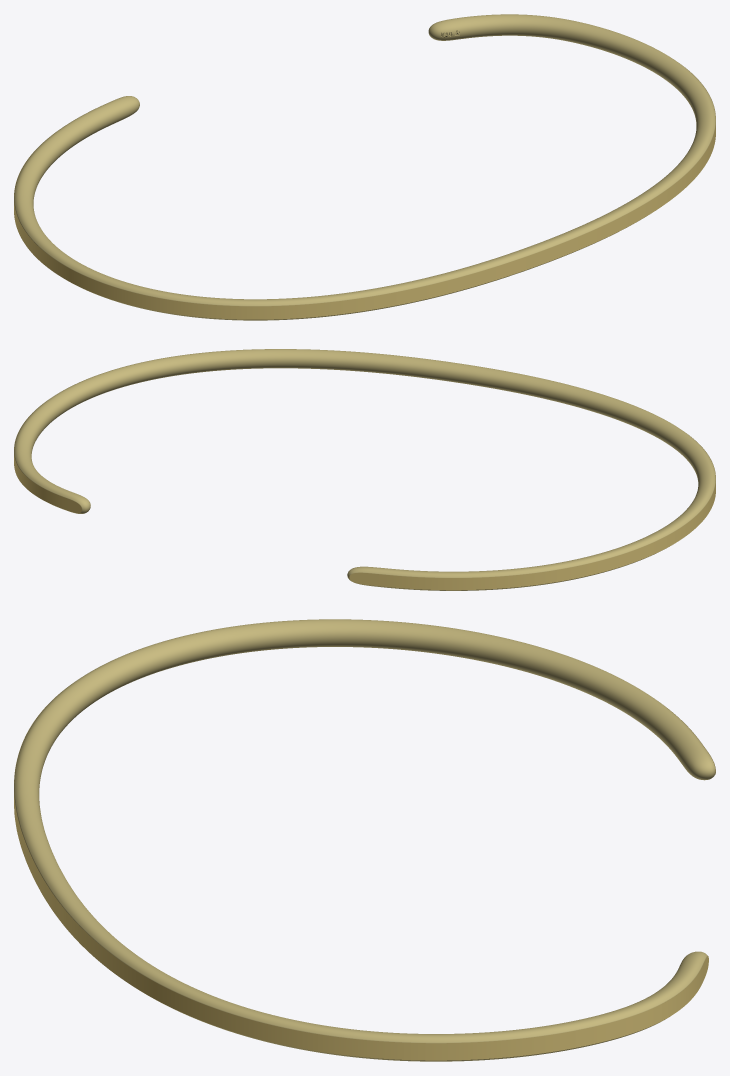
Rendered from light-gold10.glb.
3 views of the same model, one above another, from view 1: azimuth 30°, elevation 25°; view 2: azimuth 150°, elevation 25°; view 3: azimuth 270°, elevation 25° (orthographic). The views are drawn at different scales.
Parts seen in each view (by area): view 1: lightbody.006, lightomote.006; view 2: lightbody.006, lightomote.006; view 3: lightbody.006, lightomote.006.
Boxes of the visible parts, x1=… form: lightbody.006: x1=14, y1=14, x2=715, y2=320; lightomote.006: x1=14, y1=67, x2=715, y2=319; lightbody.006: x1=14, y1=349, x2=715, y2=590; lightomote.006: x1=14, y1=406, x2=715, y2=590; lightbody.006: x1=14, y1=619, x2=715, y2=1061; lightomote.006: x1=14, y1=689, x2=715, y2=1060.
Bounding box in the file's own units: 3.4 × 0.0938 × 2.39.
2 materials, 2 textured.
